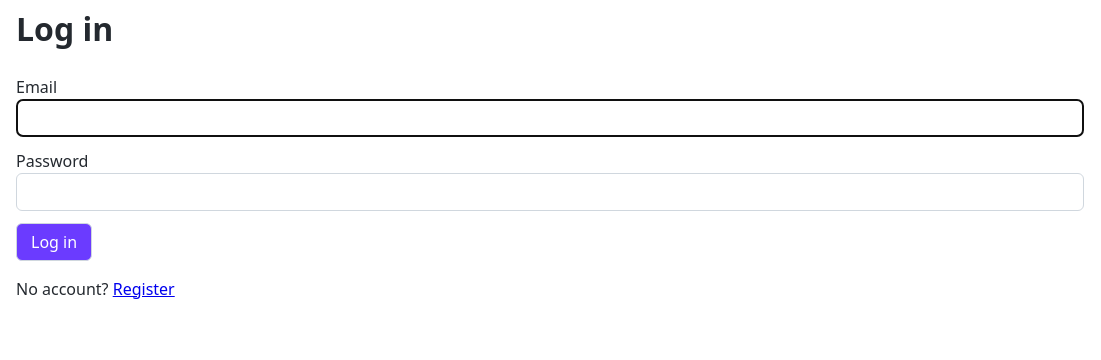
Test case: LoginPage › shows a distinct message when the account is locked (SR-1 throttling)
Type "alice@example.com" into the field labelled "Email" at (550,118), box top-left (16, 99), bottom-right (1084, 137)
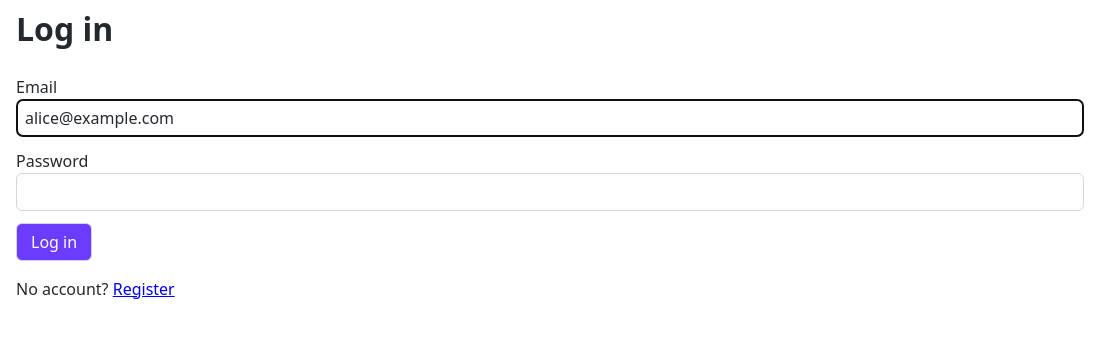
Type "correct-horse-battery" into the password field labelled "Password" at (550,192), box top-left (16, 173), bottom-right (1084, 211)
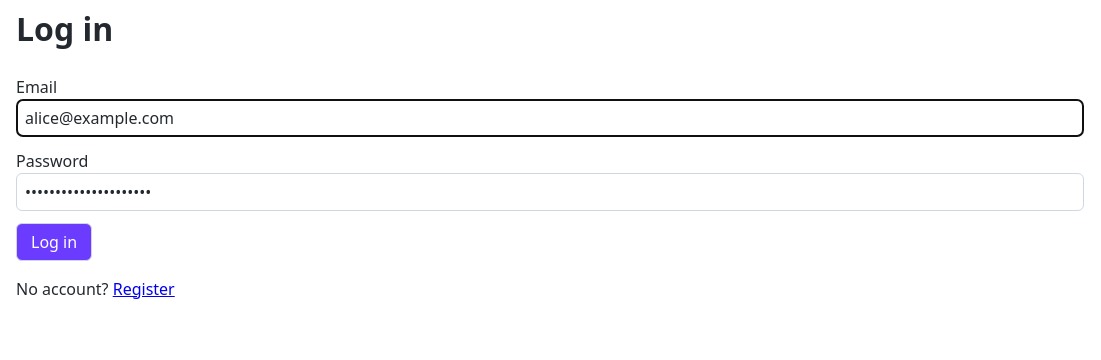
Click the button "Log in" at (54,242), box top-left (16, 223), bottom-right (92, 261)
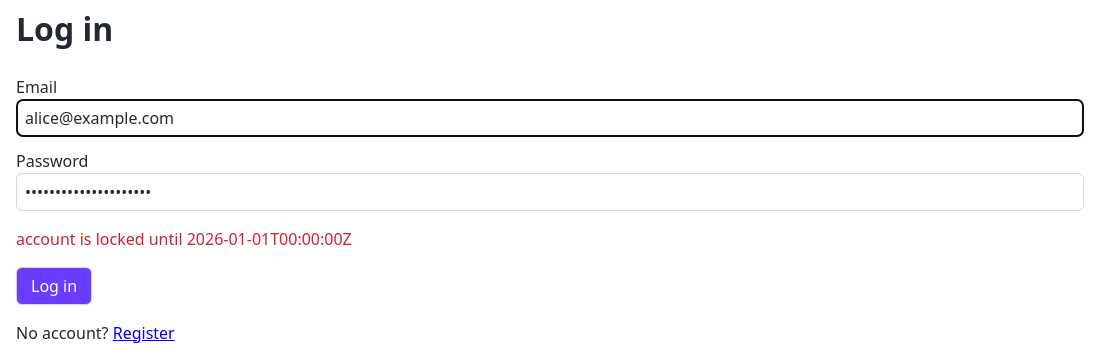
Check: the message shows "account is locked", box top-left (16, 228), bottom-right (352, 250)
